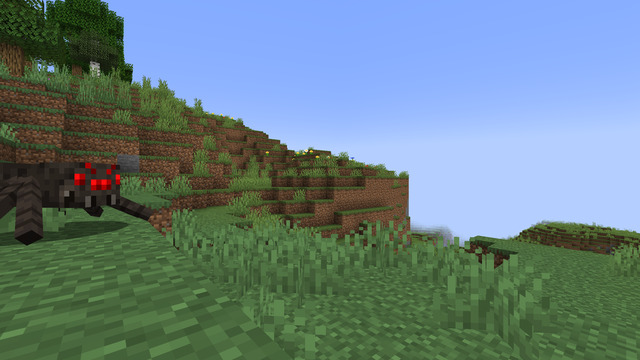araignees: (5, 152, 125, 241)
